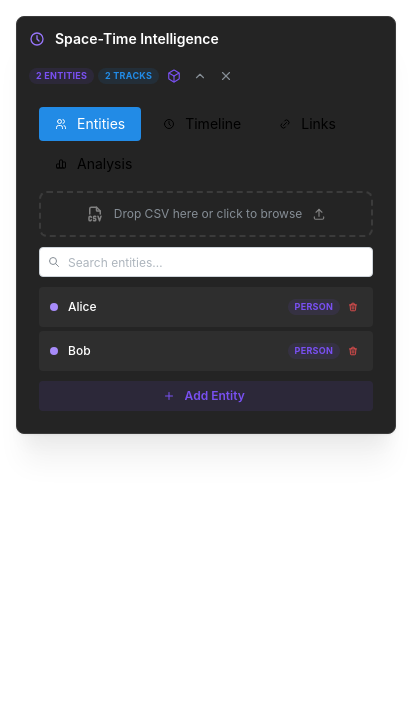
Scenario: Analysis tab buttons › runs colocation and lists its results
Click the tab "Analysis": x=94, y=164 [39, 147, 148, 181]
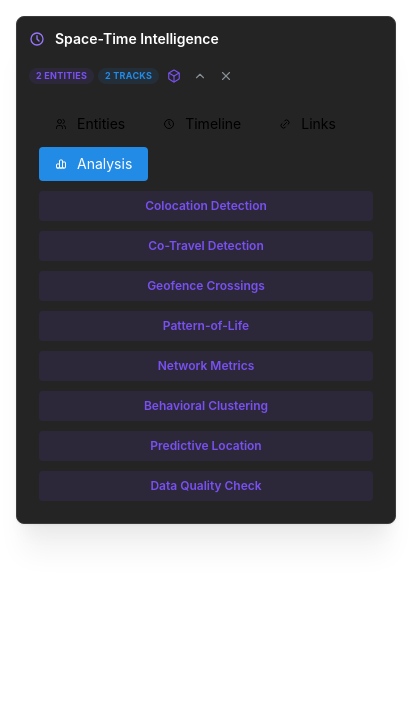
Result: the button "Colocation Detection" is shown
Click the button "Colocation Detection": x=206, y=206 [39, 191, 373, 221]
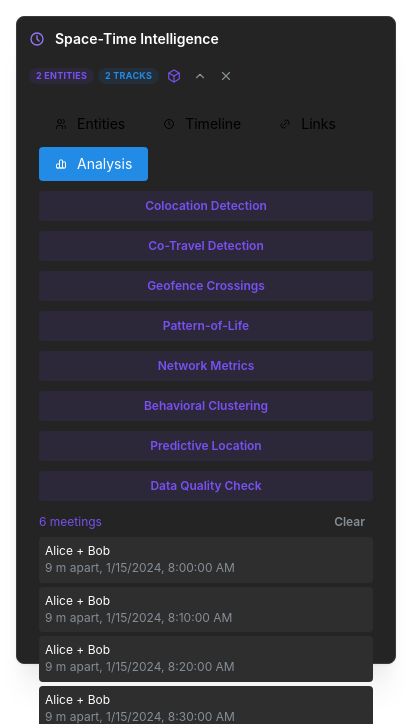
Result: the text "6 meetings" is shown at [39, 514, 102, 531]
Result: the text "Alice + Bob" is shown 6 times
